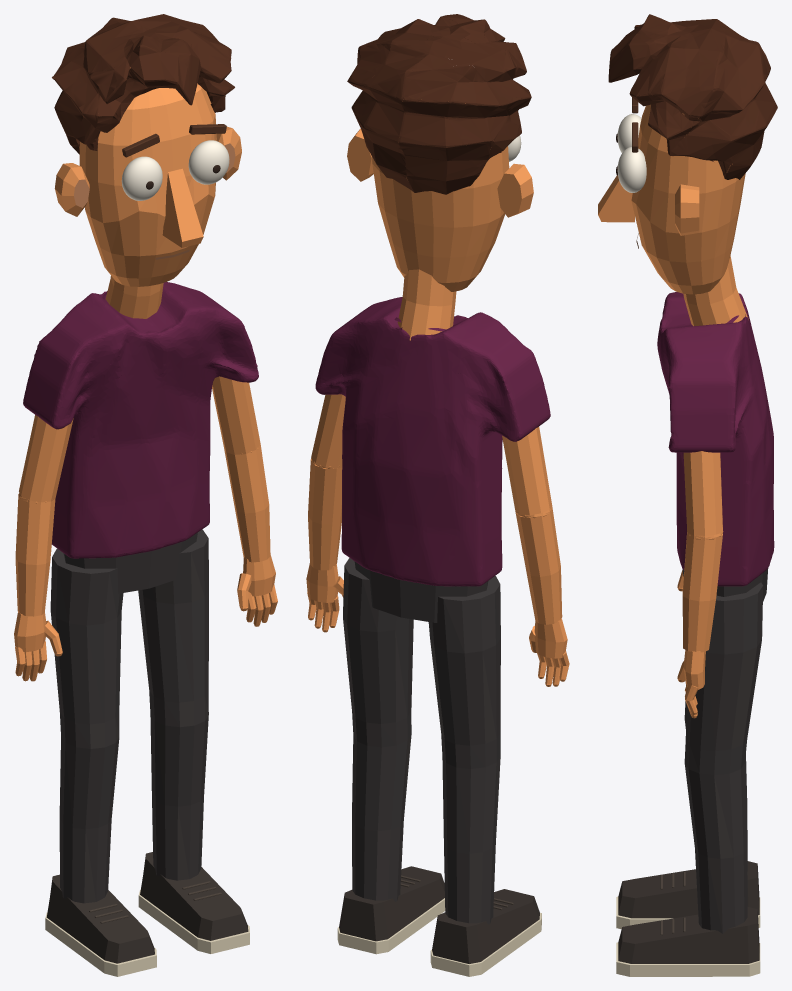
Rendered from character_midpoint_v02.glb.
3 views of the same model, side by side, from view 1: azimuth 30°, elevation 25°; view 2: azimuth 150°, elevation 25°; view 3: azimuth 270°, elevation 25° (orthographic).
Visible parts, largest first — view 1: shirt_connected, trouser_leg_r, trouser_leg_l, head_face, hair_sculpted_midpoint, shoe_upper_l, shoe_upper_r, forearm_r, forearm_l, upper_arm_r, trousers_hips, upper_arm_l (+10 smaller); view 2: shirt_connected, hair_sculpted_midpoint, trouser_leg_r, trouser_leg_l, head_face, shoe_upper_r, shoe_upper_l, forearm_r, forearm_l, trousers_hips, upper_arm_r, neck (+7 smaller); view 3: shirt_connected, trouser_leg_l, hair_sculpted_midpoint, head_face, shoe_upper_l, shoe_upper_r, forearm_l, upper_arm_l, neck, shoe_sole_l, nose_wedge, ear_l (+5 smaller).
Part boxes in pixels (x1=…): shirt_connected: x1=23, y1=282, x2=258, y2=558; trouser_leg_r: x1=50, y1=548, x2=123, y2=903; trouser_leg_l: x1=138, y1=529, x2=208, y2=880; head_face: x1=79, y1=67, x2=216, y2=286; hair_sculpted_midpoint: x1=52, y1=14, x2=234, y2=154; shoe_upper_l: x1=140, y1=852, x2=248, y2=940; shoe_upper_r: x1=46, y1=874, x2=154, y2=963; forearm_r: x1=15, y1=494, x2=55, y2=616; forearm_l: x1=224, y1=444, x2=270, y2=562; upper_arm_r: x1=19, y1=415, x2=73, y2=502; trousers_hips: x1=63, y1=532, x2=197, y2=593; upper_arm_l: x1=212, y1=376, x2=260, y2=454; shirt_connected: x1=315, y1=297, x2=550, y2=586; hair_sculpted_midpoint: x1=347, y1=14, x2=531, y2=194; trouser_leg_r: x1=428, y1=576, x2=500, y2=924; trouser_leg_l: x1=343, y1=558, x2=413, y2=901; head_face: x1=371, y1=103, x2=509, y2=291; shoe_upper_r: x1=432, y1=889, x2=539, y2=963; shoe_upper_l: x1=339, y1=866, x2=444, y2=941; forearm_r: x1=515, y1=506, x2=562, y2=624; forearm_l: x1=308, y1=459, x2=342, y2=570; trousers_hips: x1=354, y1=561, x2=488, y2=622; upper_arm_r: x1=502, y1=426, x2=552, y2=515; neck: x1=397, y1=269, x2=456, y2=340; shirt_connected: x1=657, y1=292, x2=774, y2=586; trouser_leg_l: x1=684, y1=582, x2=763, y2=933; hair_sculpted_midpoint: x1=608, y1=14, x2=777, y2=179; head_face: x1=631, y1=104, x2=745, y2=294; shoe_upper_l: x1=618, y1=907, x2=759, y2=963; shoe_upper_r: x1=618, y1=861, x2=759, y2=918; forearm_l: x1=682, y1=532, x2=722, y2=652; upper_arm_l: x1=683, y1=451, x2=722, y2=535; neck: x1=683, y1=255, x2=748, y2=326; shoe_sole_l: x1=616, y1=942, x2=760, y2=976; nose_wedge: x1=598, y1=175, x2=634, y2=222; ear_l: x1=675, y1=184, x2=699, y2=235.
Size of the model in its own units: 0.5294 by 1.77 by 0.3158.
